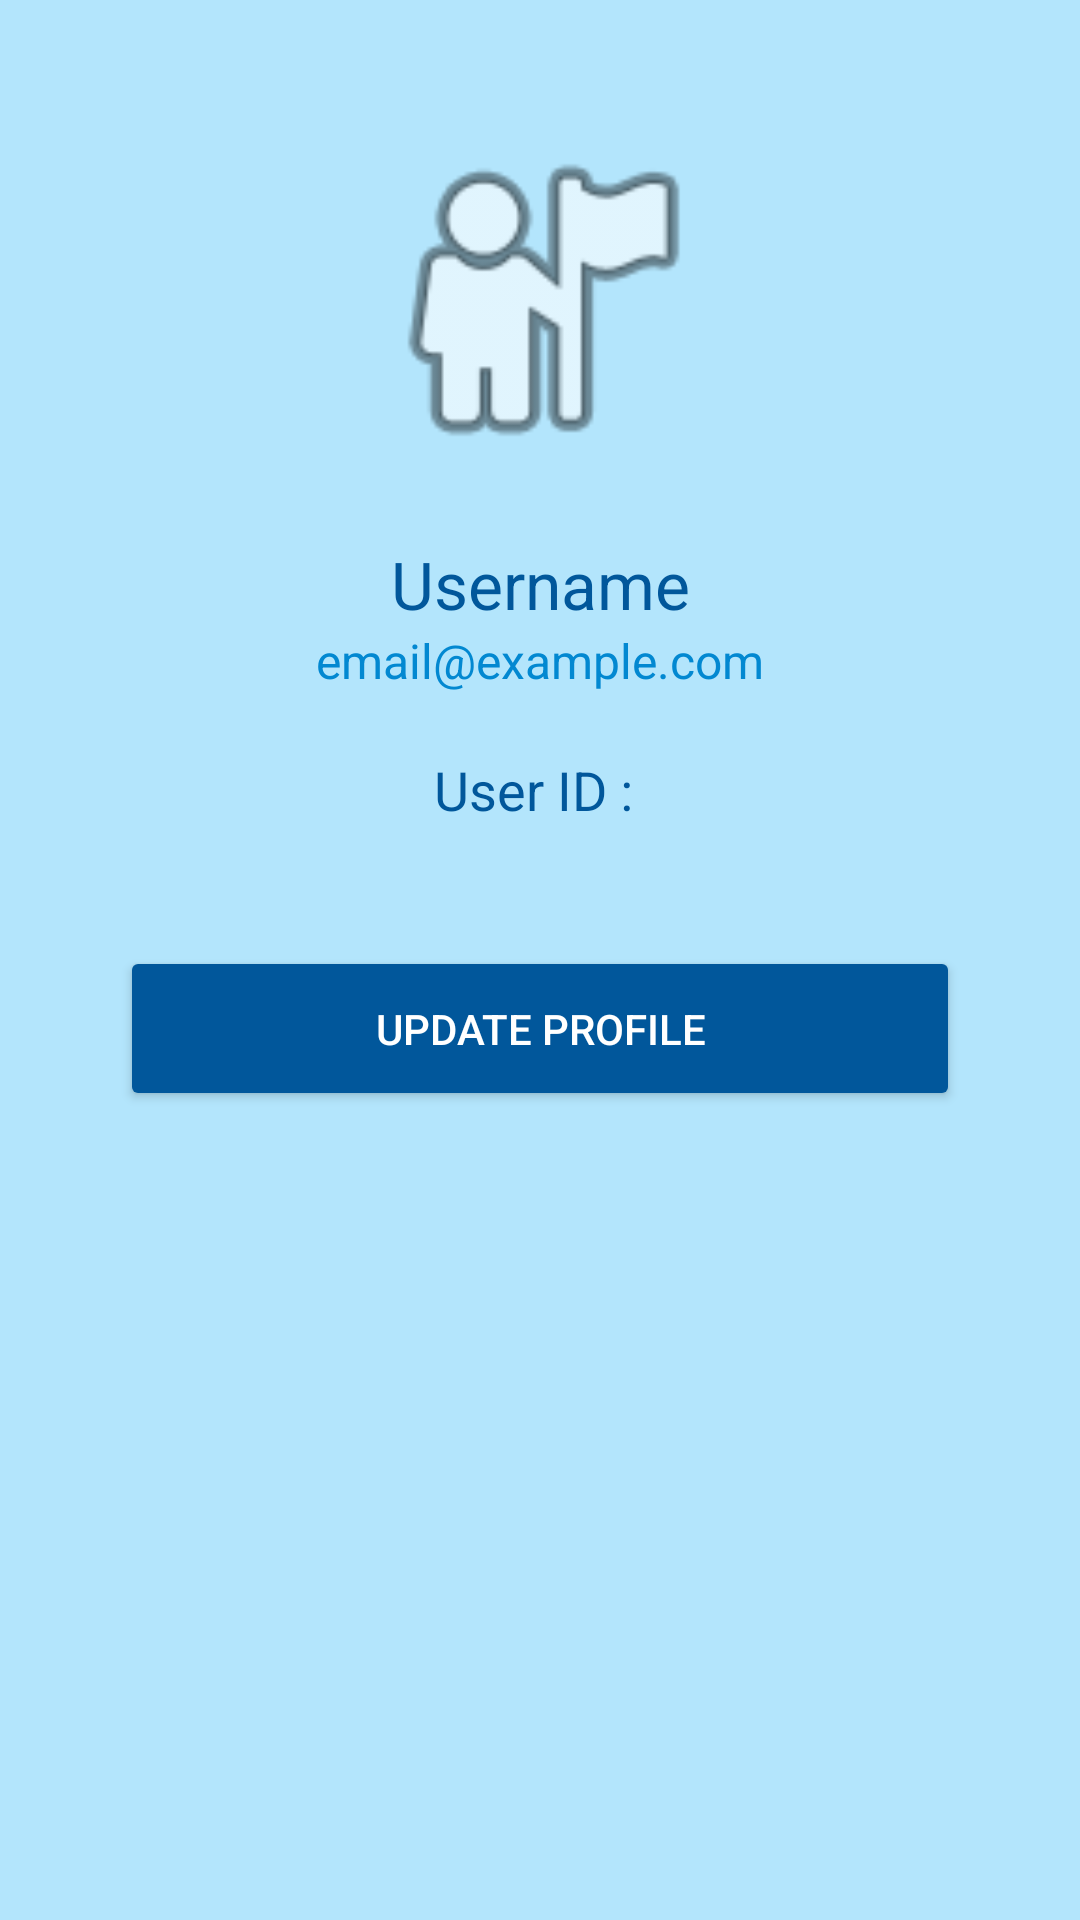

Point at icon controls on the screen. Image size 1080 x 1920, points as point (x, y).
myplaces: point (543, 300)
